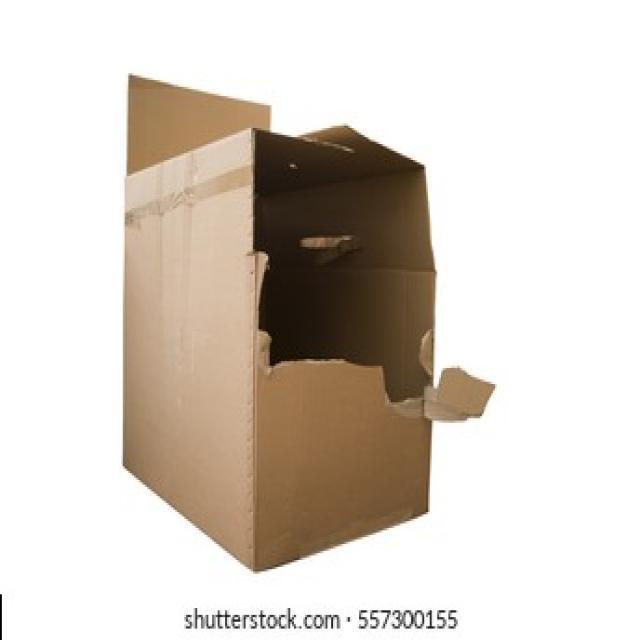damaged: (252, 140, 439, 431)
